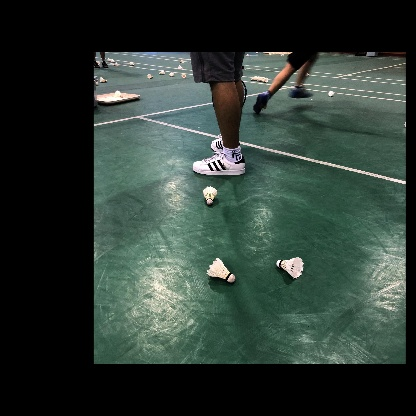ball_single: (206, 258, 235, 283), (276, 257, 304, 279), (203, 186, 217, 205), (251, 76, 268, 82), (99, 77, 107, 82), (328, 91, 334, 97), (147, 74, 153, 79), (169, 72, 174, 77), (159, 70, 165, 74), (181, 74, 186, 78), (178, 65, 183, 69), (180, 60, 184, 63)
